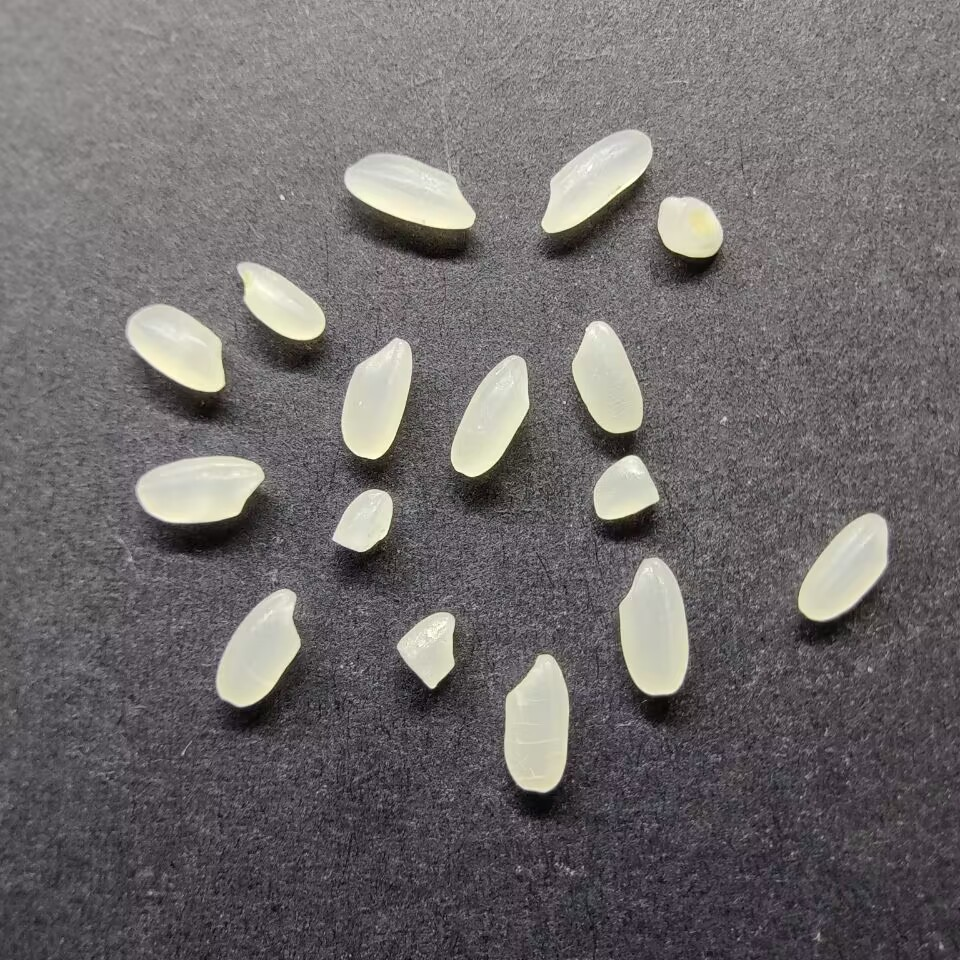broken: (393, 608, 457, 693), (655, 194, 727, 261), (591, 453, 661, 521), (330, 486, 396, 553)
rice: (540, 128, 655, 236), (340, 150, 479, 231), (213, 584, 303, 709), (795, 509, 893, 622), (446, 352, 531, 479), (616, 554, 691, 697), (123, 300, 227, 394), (134, 453, 265, 526), (502, 651, 568, 793), (339, 335, 413, 461), (569, 318, 645, 434), (233, 259, 327, 341)
